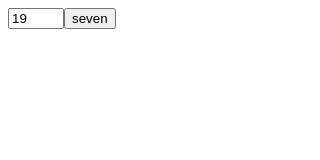
Scenario: number input › keeps what was typed out of range until the field is left
The width and height of the screenshot is (320, 160).
Replace the text in the number field named "n" with "5" at (36, 18), box left=8, top=8, right=64, bottom=29
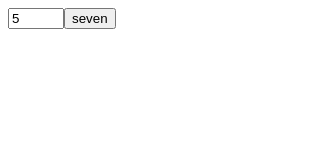
Replace the text in the number field named "n" with "50" at (36, 18), box left=8, top=8, right=64, bottom=29
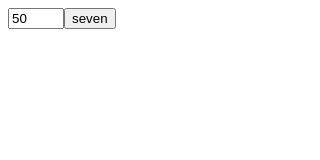
Leave the number field named "n", box left=8, top=8, right=64, bottom=29
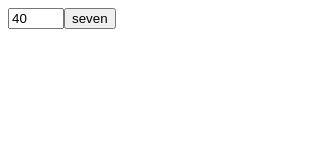
expect the number field named "n" holds "40": met, box left=8, top=8, right=64, bottom=29
